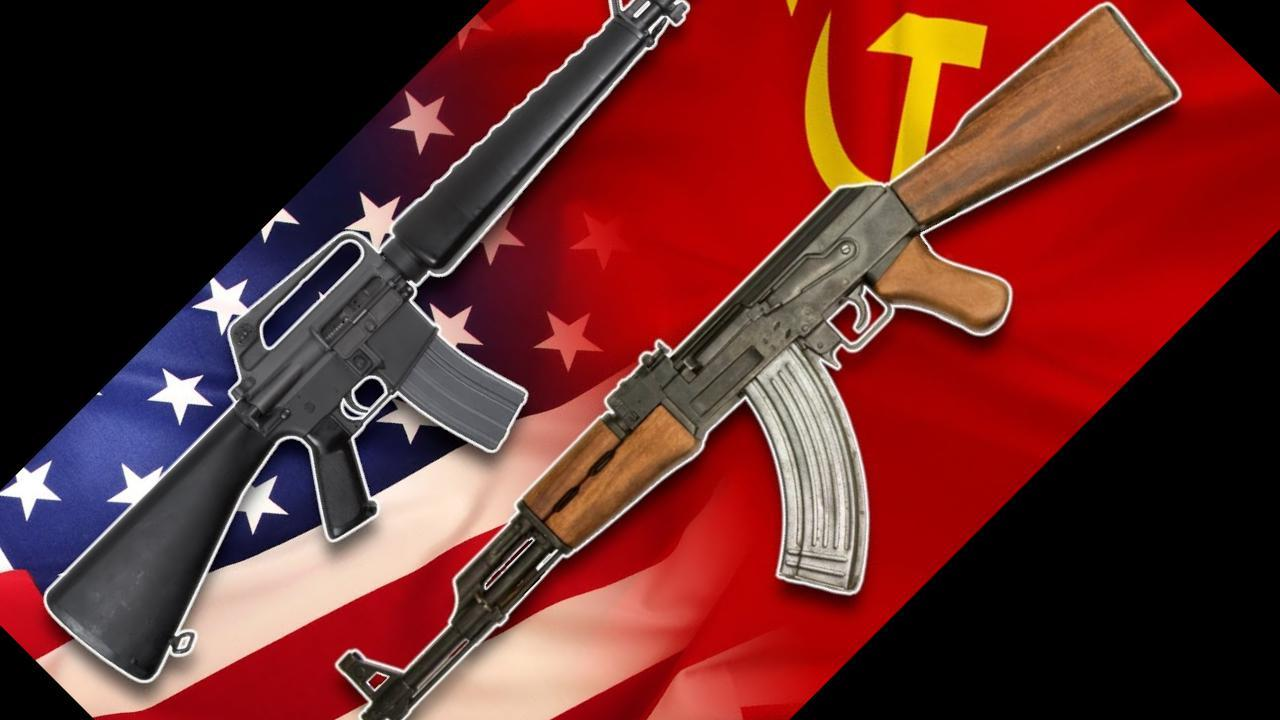larga: (336, 3, 1183, 720), (44, 0, 690, 681)
